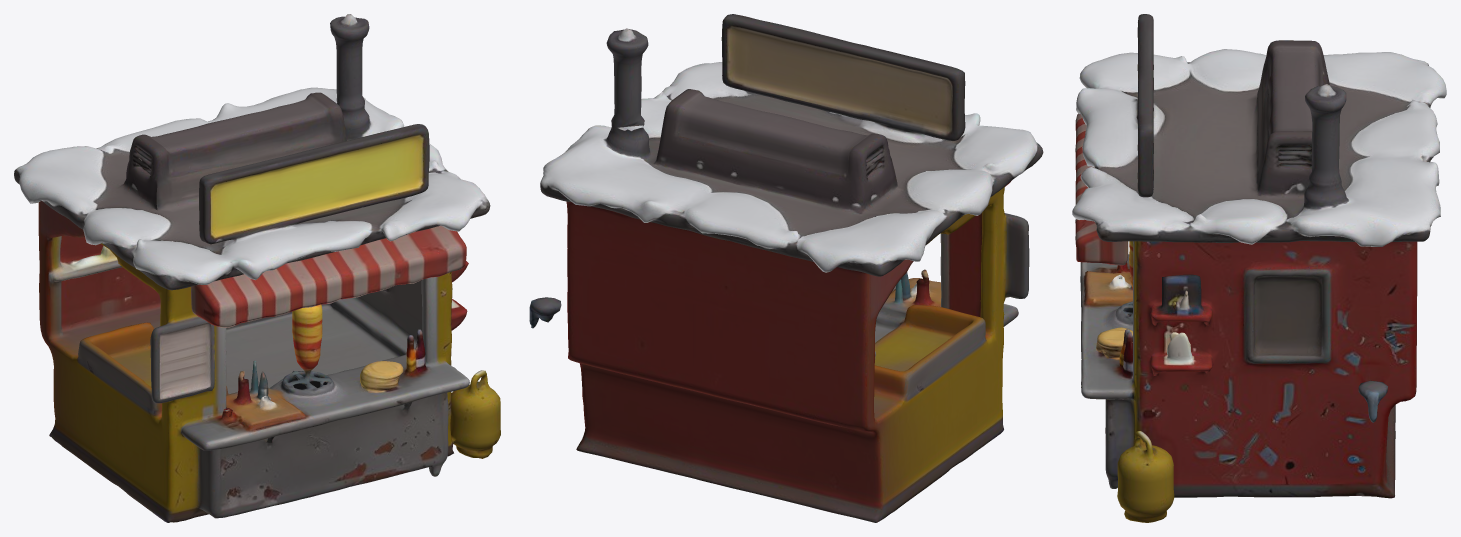
Rendered from g67_shawarma_kiosk.glb.
The picture shows the model from 3 angles, left to right: view 1: azimuth 30°, elevation 25°; view 2: azimuth 150°, elevation 25°; view 3: azimuth 270°, elevation 25°; orthographic projection. The views are drawn at different scales.
Parts seen in each view (by area): view 1: tripo_node_6fad4ee6; view 2: tripo_node_6fad4ee6; view 3: tripo_node_6fad4ee6.
Part boxes in pixels (bbox=[...]): tripo_node_6fad4ee6: bbox=[14, 14, 500, 522]; tripo_node_6fad4ee6: bbox=[529, 14, 1043, 522]; tripo_node_6fad4ee6: bbox=[1072, 14, 1446, 522].
Size of the model in its own units: 97.58 by 97.2 by 80.23.
Materials: 1 (1 with a texture image).
